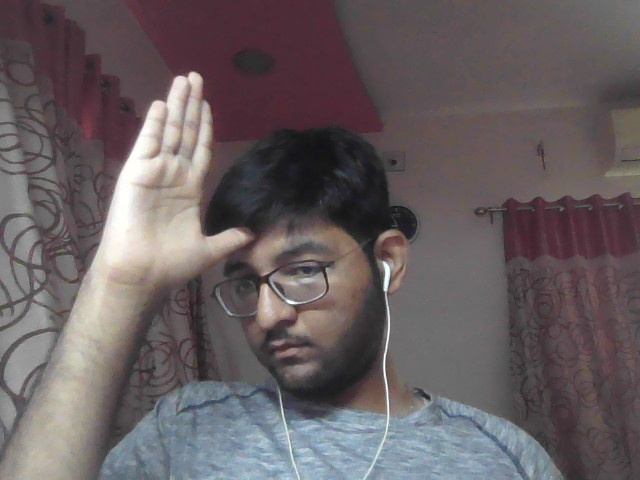પિતા: (92, 63, 268, 291)
